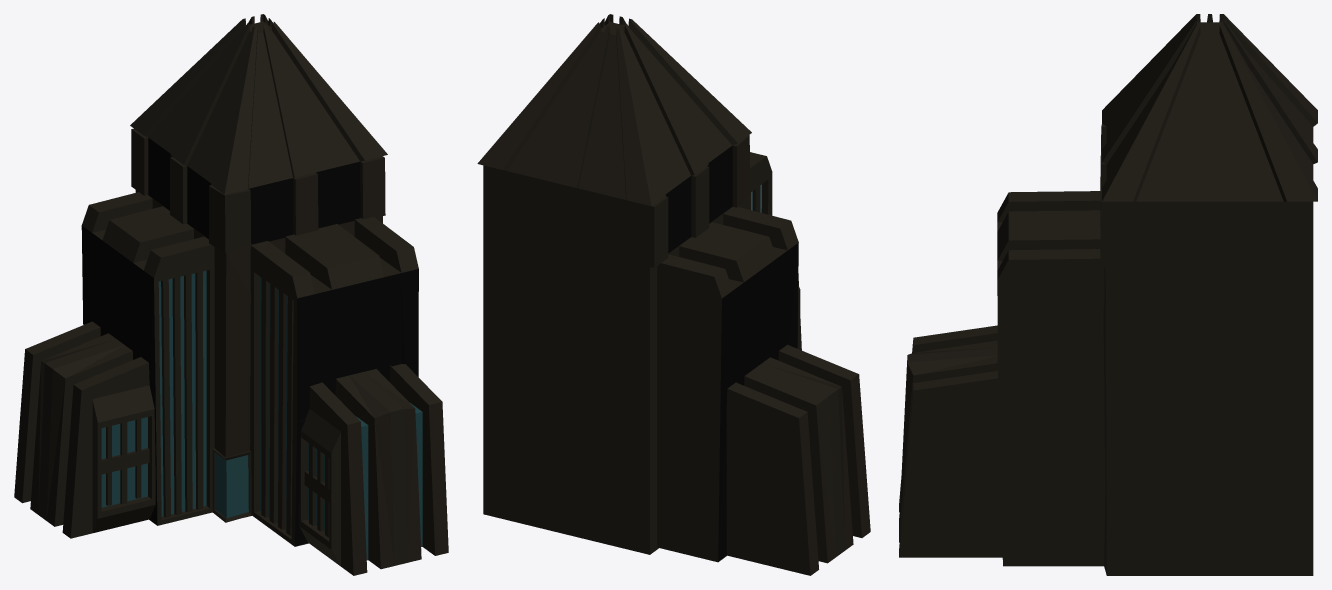
The model's file is Wayne tower.dae.
The picture shows the model from 3 angles, left to right: view 1: azimuth 30°, elevation 25°; view 2: azimuth 150°, elevation 25°; view 3: azimuth 270°, elevation 25°; orthographic projection. The views are drawn at different scales.
Visible parts, largest first — view 1: Square_tower1FBXASC058pCube1; view 2: Square_tower1FBXASC058pCube1; view 3: Square_tower1FBXASC058pCube1.
Boxes of the visible parts, box(x1,y1,x2,y2) form: Square_tower1FBXASC058pCube1: box(14, 14, 448, 575); Square_tower1FBXASC058pCube1: box(477, 14, 870, 575); Square_tower1FBXASC058pCube1: box(899, 14, 1317, 575).
Bounding box in the file's own units: 9.46 × 13.7 × 10.15.
